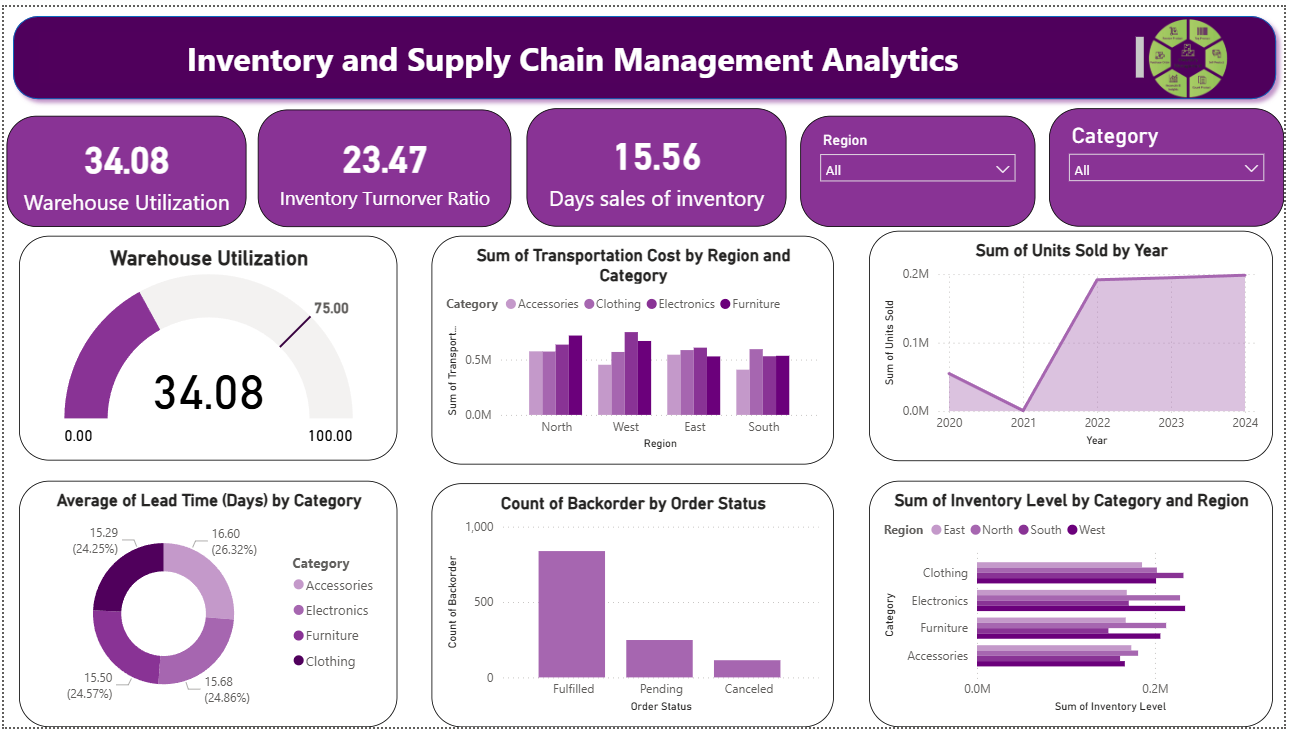

Layout of this report page (visuals, bound fields, positions):
{"tool":"powerbi","page":{"name":"Page 1","canvas":[1280,720],"ordinal":0},"visuals":[{"type":"shape","box":[0,0,1281.2,101.2],"z":0},{"type":"textbox","box":[35,25,1110,51.2],"z":1000},{"type":"image","box":[1087.5,0,192.5,102.5],"z":2000},{"type":"card","fields":{"Values":["Inventory_SupplyChain_Dataset.Warehouse Utilization"]},"box":[2.5,108.8,240,111.2],"z":3000},{"type":"card","fields":{"Values":["Inventory_SupplyChain_Dataset.Days sales of inventory"]},"box":[522.5,101.2,260,118.8],"z":4000},{"type":"card","fields":{"Values":["Inventory_SupplyChain_Dataset.Inventory Turnorver Ratio"]},"box":[253.8,102.5,253.8,117.5],"z":5000},{"type":"slicer","fields":{"Values":["Inventory_SupplyChain_Dataset.Category"]},"box":[1045,101.2,235,118.8],"z":6000},{"type":"gauge","fields":{"Y":["Inventory_SupplyChain_Dataset.Warehouse Utilization"]},"box":[15,228.8,378.8,225],"z":7000},{"type":"clusteredColumnChart","fields":{"Y":["Sum(Inventory_SupplyChain_Dataset.Transportation Cost)"],"Series":["Inventory_SupplyChain_Dataset.Category"],"Category":["Inventory_SupplyChain_Dataset.Region"]},"box":[427.5,228.8,402.5,228.8],"z":8000},{"type":"slicer","fields":{"Values":["Inventory_SupplyChain_Dataset.Region"]},"box":[796.2,108.8,235,111.2],"z":9000},{"type":"lineChart","fields":{"Y":["Sum(Inventory_SupplyChain_Dataset.Units Sold)"],"Category":["Inventory_SupplyChain_Dataset.Date.Variation.Date Hierarchy.Year"]},"box":[865,223.8,403.8,230],"z":10000},{"type":"donutChart","fields":{"Y":["Avg(Inventory_SupplyChain_Dataset.Lead Time (Days))"],"Category":["Inventory_SupplyChain_Dataset.Category"]},"box":[15,473.8,378.8,246.2],"z":11000},{"type":"columnChart","fields":{"Y":["CountNonNull(Inventory_SupplyChain_Dataset.Backorder)"],"Category":["Inventory_SupplyChain_Dataset.Order Status"]},"box":[427.5,476.2,402.5,243.8],"z":12000},{"type":"clusteredBarChart","fields":{"Y":["Sum(Inventory_SupplyChain_Dataset.Inventory Level)"],"Category":["Inventory_SupplyChain_Dataset.Category"],"Series":["Inventory_SupplyChain_Dataset.Region"]},"box":[865,473.8,403.8,246.2],"z":13000}]}

Visuals, with their boxes in screenshot pixels (x1, y1, x2, y2), scaled from the page's 1280x720 canvas onto the 1289x735 screenshot:
shape: (0,0,1288,103)
textbox: (35,26,1153,78)
image: (1095,0,1288,105)
card - Inventory_SupplyChain_Dataset.Warehouse Utilization: (3,111,244,225)
card - Inventory_SupplyChain_Dataset.Days sales of inventory: (526,103,788,225)
card - Inventory_SupplyChain_Dataset.Inventory Turnorver Ratio: (256,105,511,225)
slicer - Inventory_SupplyChain_Dataset.Category: (1052,103,1288,225)
gauge - Inventory_SupplyChain_Dataset.Warehouse Utilization: (15,234,397,463)
clusteredColumnChart - Sum(Inventory_SupplyChain_Dataset.Transportation Cost) x Inventory_SupplyChain_Dataset.Category: (431,234,836,467)
slicer - Inventory_SupplyChain_Dataset.Region: (802,111,1038,225)
lineChart - Sum(Inventory_SupplyChain_Dataset.Units Sold) x Inventory_SupplyChain_Dataset.Date.Variation.Date Hierarchy.Year: (871,228,1278,463)
donutChart - Avg(Inventory_SupplyChain_Dataset.Lead Time (Days)) x Inventory_SupplyChain_Dataset.Category: (15,484,397,734)
columnChart - CountNonNull(Inventory_SupplyChain_Dataset.Backorder) x Inventory_SupplyChain_Dataset.Order Status: (431,486,836,734)
clusteredBarChart - Sum(Inventory_SupplyChain_Dataset.Inventory Level) x Inventory_SupplyChain_Dataset.Category: (871,484,1278,734)
